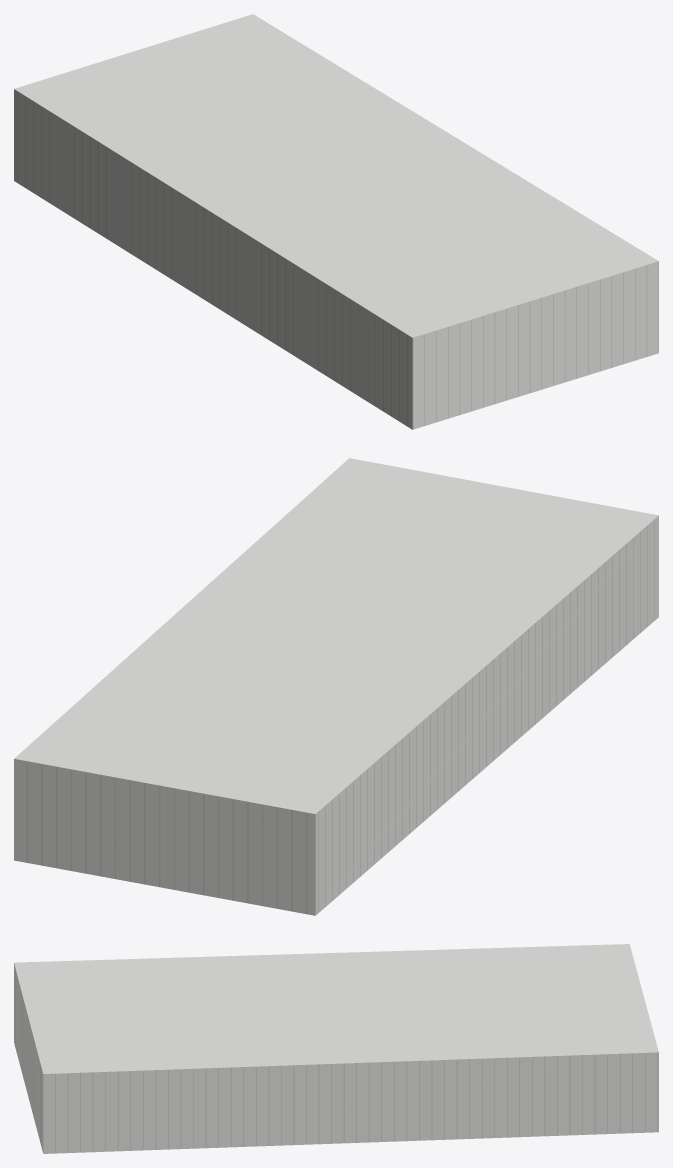
The model's file is utility.glb.
3 views of the same model, one above another, from view 1: azimuth 30°, elevation 25°; view 2: azimuth 150°, elevation 25°; view 3: azimuth 270°, elevation 25° (orthographic). The views are drawn at different scales.
Visible parts, largest first — view 1: utility roof, utility walls; view 2: utility roof, utility walls; view 3: utility roof, utility walls.
Boxes of the visible parts, x1=… form: utility roof: x1=14, y1=14, x2=658, y2=337; utility walls: x1=14, y1=89, x2=658, y2=429; utility roof: x1=14, y1=458, x2=658, y2=813; utility walls: x1=14, y1=516, x2=658, y2=915; utility roof: x1=14, y1=944, x2=658, y2=1073; utility walls: x1=14, y1=963, x2=658, y2=1153.
Bounding box in the file's own units: 24.44 × 7 × 51.22.
2 materials, 1 textured.
